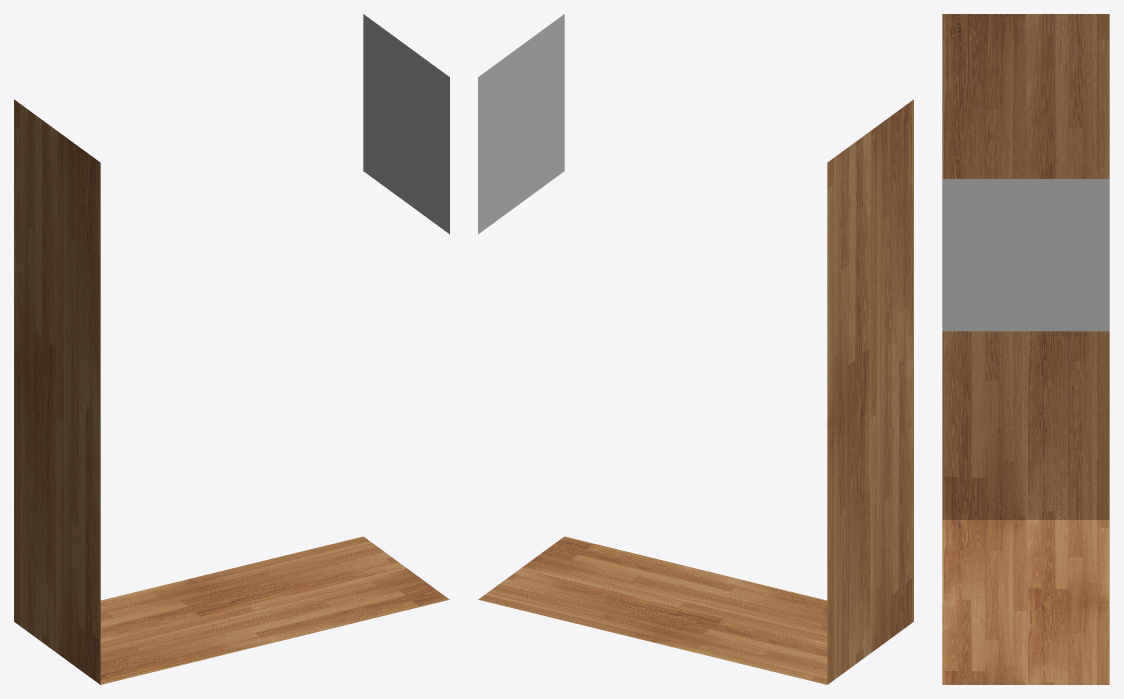
Rendered from HallwayUpFloor.fbx.
3 views of the same model, side by side, from view 1: azimuth 30°, elevation 25°; view 2: azimuth 150°, elevation 25°; view 3: azimuth 270°, elevation 25° (orthographic). The views are drawn at different scales.
Visible parts, largest first — view 1: Cube.016; view 2: Cube.016; view 3: Cube.016.
Part boxes in pixels (bbox=[...]): Cube.016: bbox=[14, 14, 449, 684]; Cube.016: bbox=[478, 14, 913, 684]; Cube.016: bbox=[942, 14, 1109, 684].
Bounding box in the file's own units: 140 × 200 × 60.
